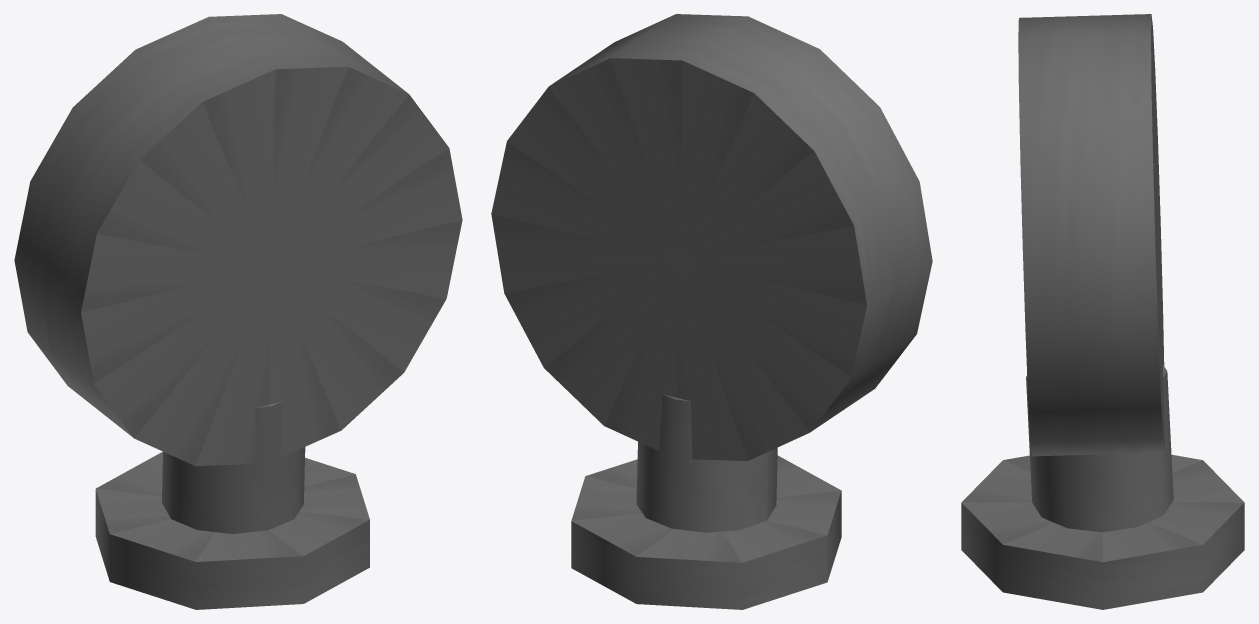
The model's file is mastarmcurve_8x2_c9_down.obj.
3 renders of one model, left to right at view 1: azimuth 30°, elevation 25°; view 2: azimuth 150°, elevation 25°; view 3: azimuth 270°, elevation 25°, orthographic.
Parts seen in each view (by area): view 1: mastarm_8x2_c9_down; view 2: mastarm_8x2_c9_down; view 3: mastarm_8x2_c9_down.
Part boxes in pixels (x1,y1,x2,y2): mastarm_8x2_c9_down: (14, 14, 462, 609); mastarm_8x2_c9_down: (491, 14, 932, 609); mastarm_8x2_c9_down: (961, 14, 1244, 609).
Size of the model in its own units: 0.6206 by 0.8042 by 0.4.
